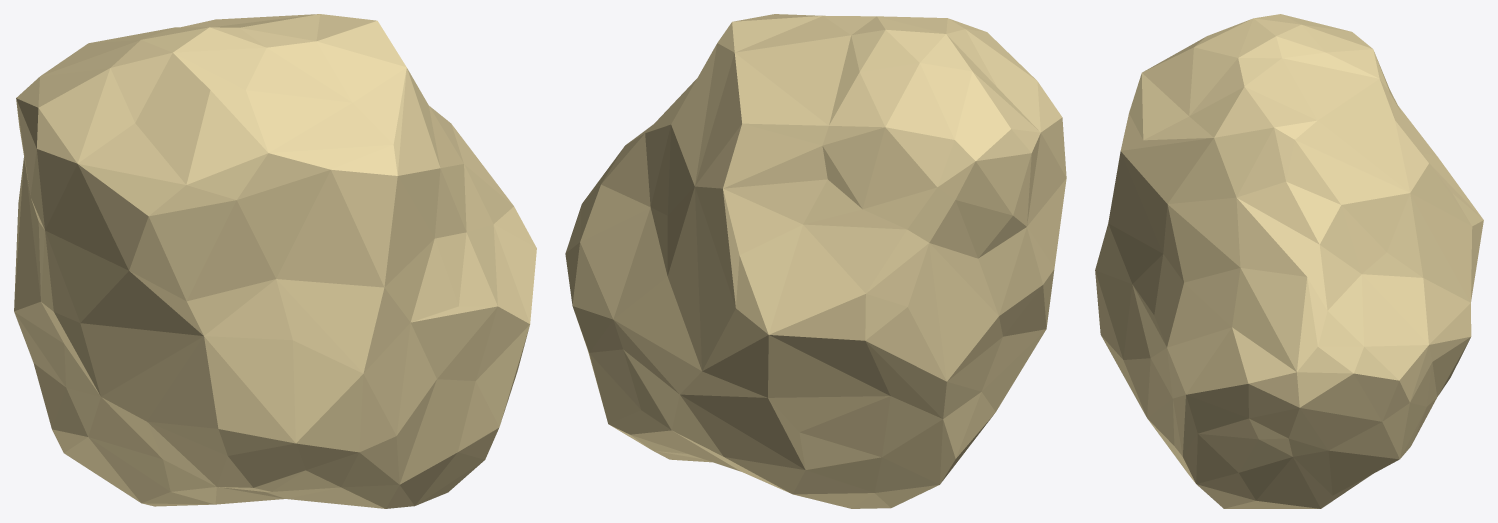
Rendered from Asteroid (123).fbx.
3 renders of one model, left to right at view 1: azimuth 30°, elevation 25°; view 2: azimuth 150°, elevation 25°; view 3: azimuth 270°, elevation 25°, orthographic. The views are drawn at different scales.
Parts seen in each view (by area): view 1: Asteroid146; view 2: Asteroid146; view 3: Asteroid146.
Part boxes in pixels (<box>): Asteroid146: <box>14,14,536,508</box>; Asteroid146: <box>565,14,1066,508</box>; Asteroid146: <box>1095,14,1483,508</box>.
Bounding box in the file's own units: 199 × 192 × 172.
